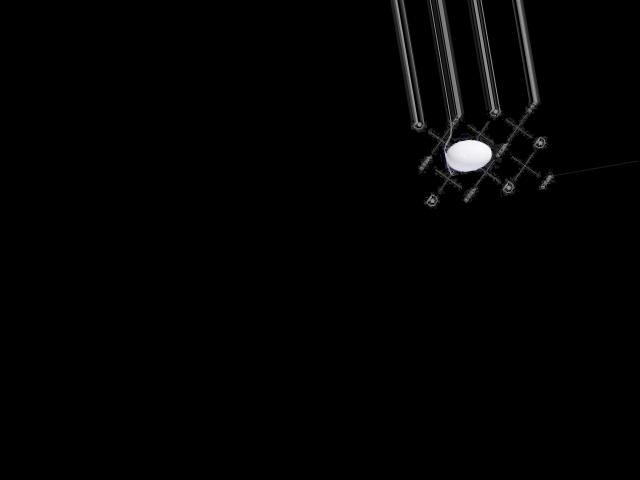egg: (443, 135, 493, 174)
